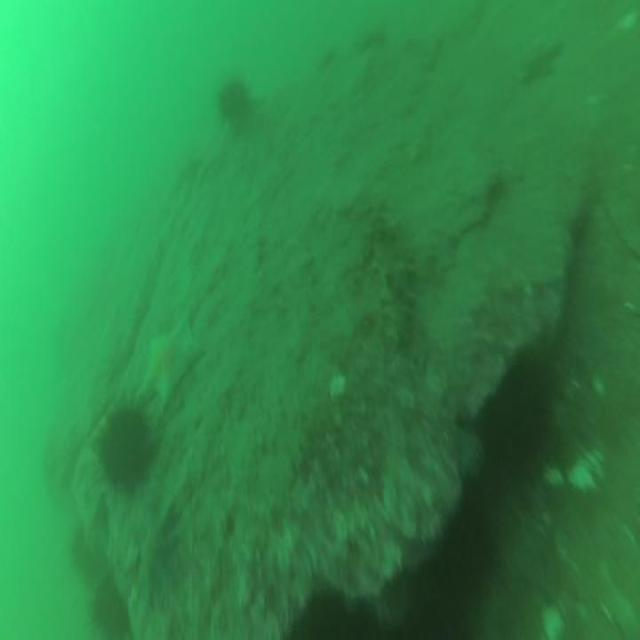echinus: (482, 351, 551, 477), (440, 493, 493, 597), (98, 406, 150, 492), (218, 84, 247, 120)
holothurian: (374, 229, 417, 345)
starfish: (142, 313, 205, 403)
